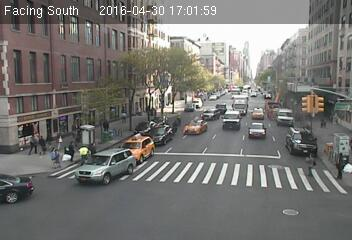pos: (330, 154, 351, 182), (305, 151, 323, 175)
